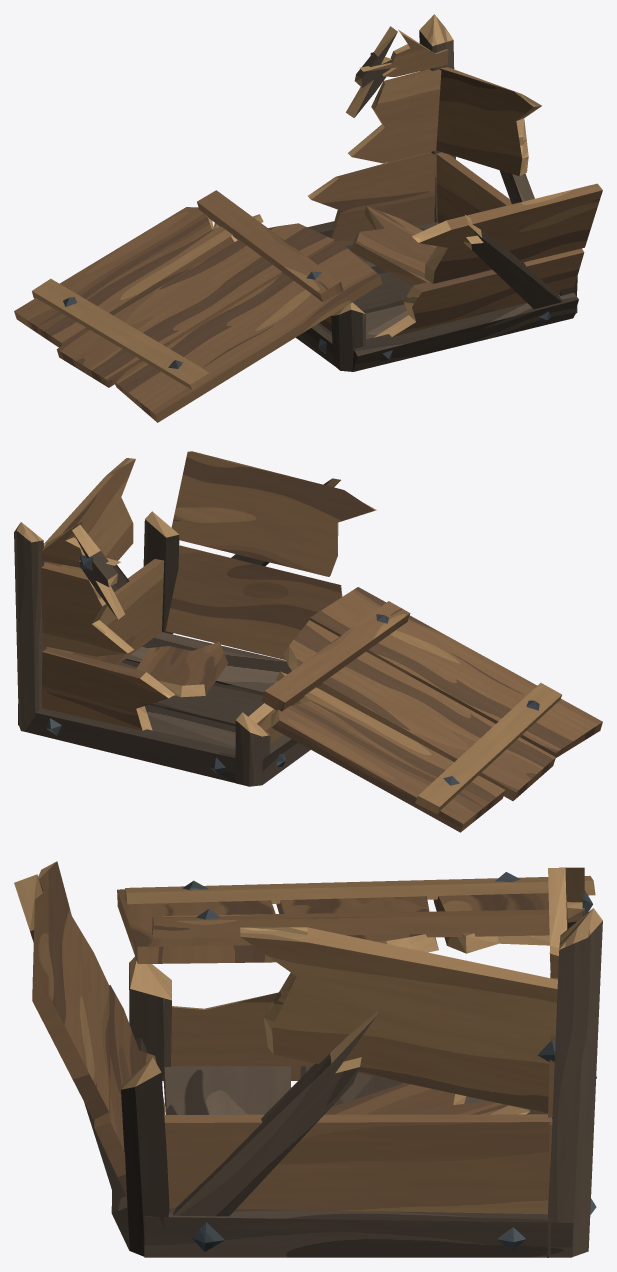
The model's file is SM_BrokenCrate.fbx.
3 renders of one model, top to bottom at view 1: azimuth 30°, elevation 25°; view 2: azimuth 150°, elevation 25°; view 3: azimuth 270°, elevation 25°, orthographic. The views are drawn at different scales.
Parts seen in each view (by area): view 1: SM_BrokenCrate; view 2: SM_BrokenCrate; view 3: SM_BrokenCrate.
Part boxes in pixels (bbox=[...]): SM_BrokenCrate: bbox=[14, 14, 602, 422]; SM_BrokenCrate: bbox=[14, 451, 602, 832]; SM_BrokenCrate: bbox=[14, 861, 602, 1257].
Bounding box in the file's own units: 1.23 × 0.5463 × 0.8421.
